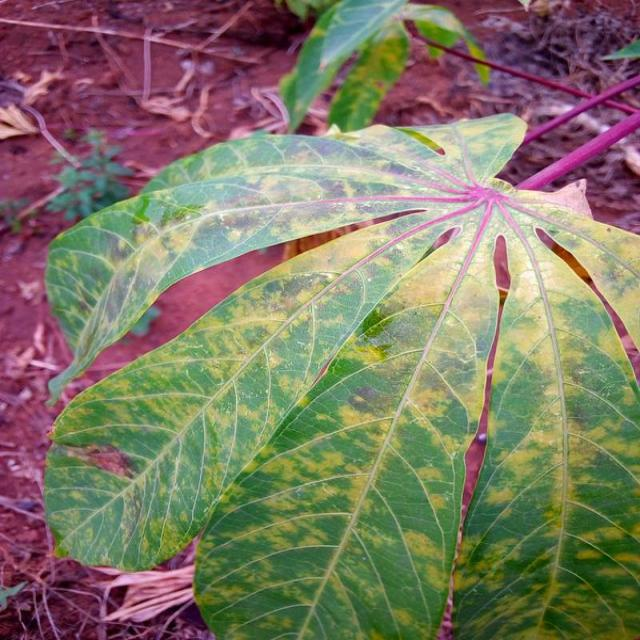cassava leaf: (41, 110, 638, 638)
